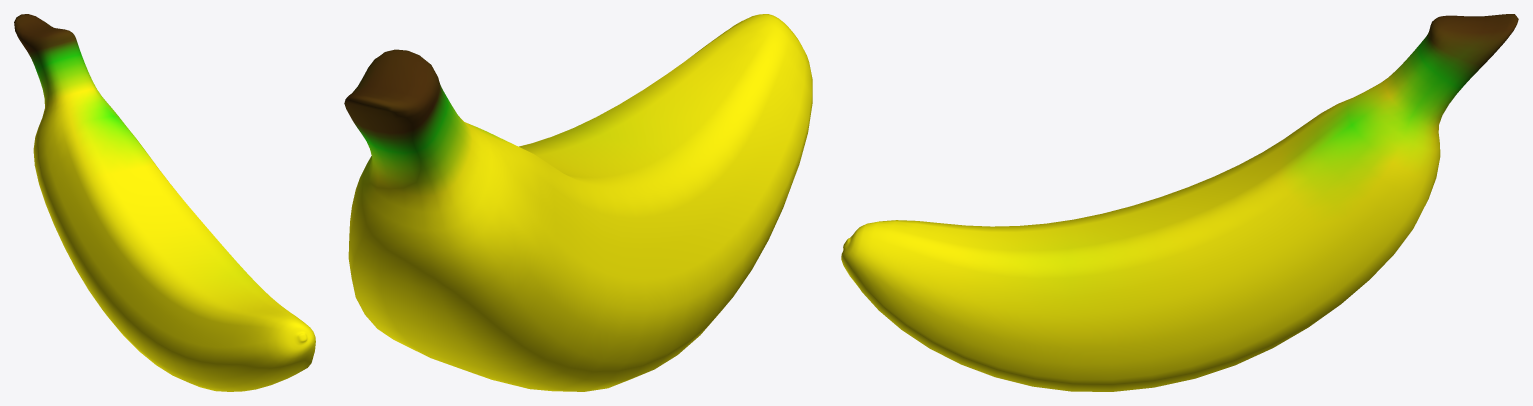
The model's file is Banana.fbx.
3 views of the same model, side by side, from view 1: azimuth 30°, elevation 25°; view 2: azimuth 150°, elevation 25°; view 3: azimuth 270°, elevation 25° (orthographic). The views are drawn at different scales.
Parts seen in each view (by area): view 1: Cube; view 2: Cube; view 3: Cube.
Boxes of the visible parts, x1,y1,x2,y2 form: Cube: [14, 14, 315, 391]; Cube: [344, 14, 812, 391]; Cube: [841, 14, 1518, 391].
Size of the model in its own units: 291 by 597 by 1077.
